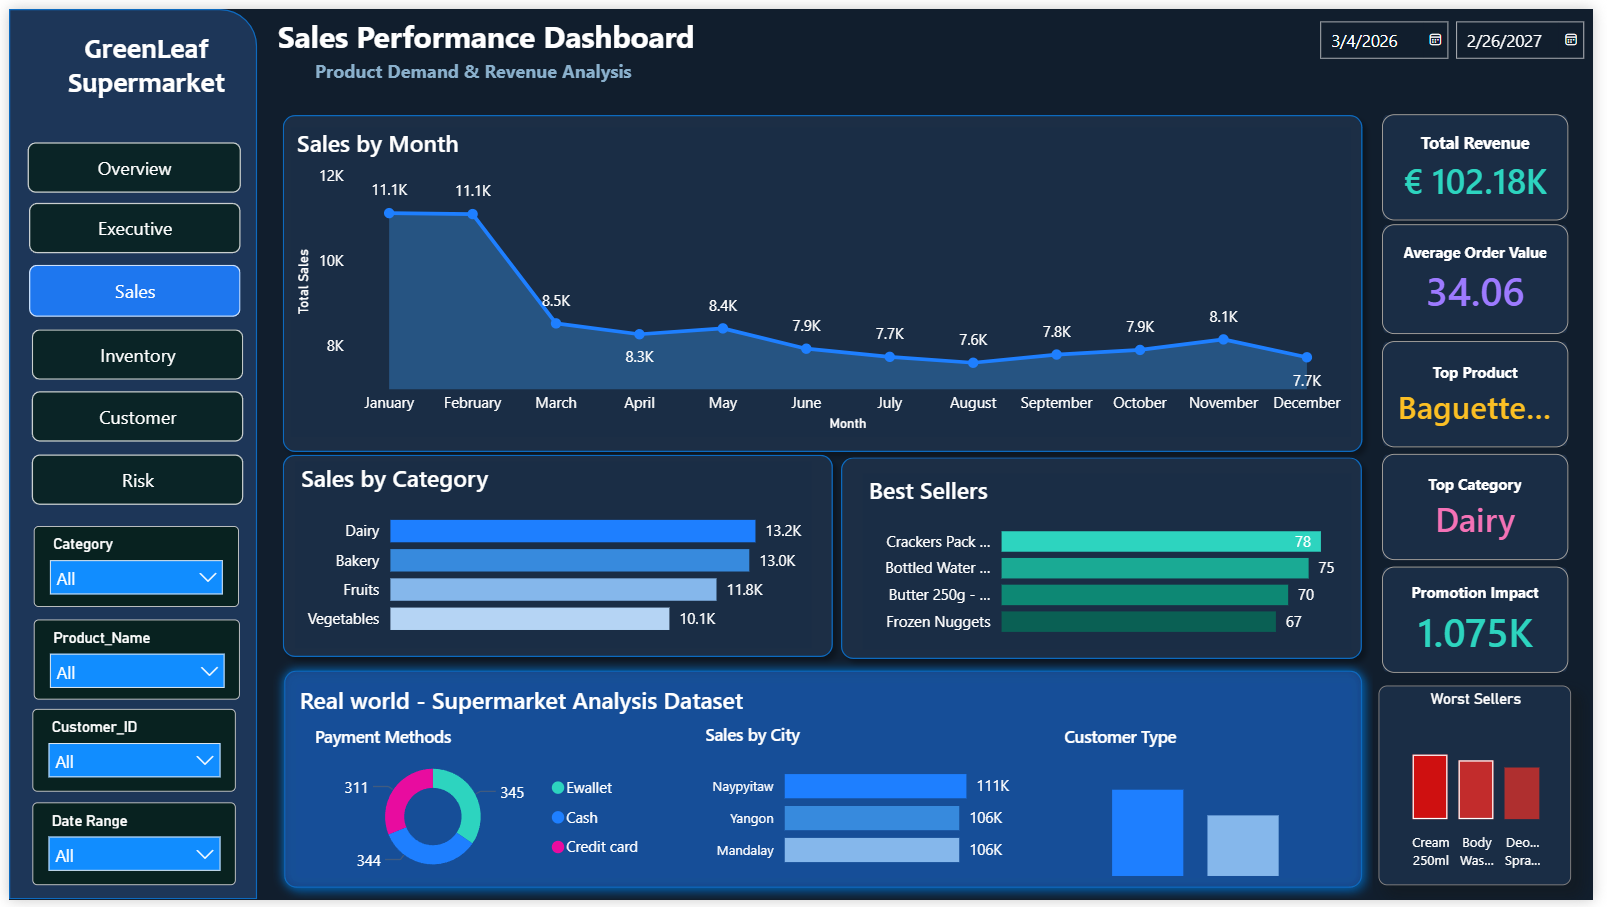

This screenshot's page, from the dashboard's own definition file:
{"tool":"powerbi","page":{"name":"Sales","canvas":[1280,720],"ordinal":2},"visuals":[{"type":"shape","box":[0,0,200.5,719.4],"z":0},{"type":"group","id":"g1","title":"Group 4","box":[9.8,18.2,193.5,689.9],"z":1000},{"type":"actionButton","box":[9.8,107.7,182.3,40.7],"z":1000,"group":"g1"},{"type":"slicer","fields":{"Values":["Inventory_dataset.Expiry_Date"]},"box":[1046.4,0,233.6,48.9],"z":2000},{"type":"cardVisual","fields":{"Data":["Sales_dataset.Total Revenue"]},"box":[1102.2,77.1,165.5,101],"z":2000,"group":"g3"},{"type":"actionButton","box":[11.2,156.8,180.9,40.7],"z":2000,"group":"g1"},{"type":"group","id":"g2","title":"Group 1","box":[212.7,0,399.3,64.5],"z":3000},{"type":"actionButton","box":[11.2,207.3,180.9,42.1],"z":3000,"group":"g1"},{"type":"shape","box":[212.1,76.4,890.4,290.3],"z":4000,"group":"g4"},{"type":"actionButton","box":[12.6,259.1,180.9,40.7],"z":4000,"group":"g1"},{"type":"shape","box":[213.1,525.9,889,193.5],"z":4000},{"type":"lineChart","title":"Sales by Month","fields":{"Category":["Sales_dataset.Date.Variation.Date Hierarchy.Month","Sales_dataset.Date.Variation.Date Hierarchy.Day"],"Y":["Customers_dataset.Total Sales"]},"box":[227.1,95.8,856.9,250],"z":5000,"group":"g4"},{"type":"actionButton","box":[12.6,309.6,180.9,40.7],"z":5000,"group":"g1"},{"type":"textbox","box":[230,539.9,490.8,39.3],"z":5000},{"type":"shape","box":[212,350.7,462.5,181.4],"z":6000,"group":"g5"},{"type":"actionButton","box":[12.6,360.1,180.9,40.7],"z":6000,"group":"g1"},{"type":"donutChart","title":"Payment Methods","fields":{"Category":["SuperMarket Analysis.Payment"],"Y":["CountNonNull(SuperMarket Analysis.Invoice ID)"]},"box":[242.6,579.1,280.5,129],"z":6000},{"type":"shape","box":[663.6,352.5,438.9,180.9],"z":7000,"group":"g5"},{"type":"slicer","fields":{"Values":["Products_dataset.Category"]},"box":[19.3,418.1,165.7,65.6],"z":7000,"group":"g1"},{"type":"clusteredBarChart","title":"Sales by City","fields":{"Category":["SuperMarket Analysis.City"],"Y":["Sum(SuperMarket Analysis.Sales)"]},"box":[558.1,576.3,263.6,129],"z":7000},{"type":"group","id":"g3","title":"Group 7","box":[212,76.4,1055.7,631.8],"z":8000},{"type":"clusteredBarChart","title":"Sales by Category","fields":{"Category":["Products_dataset.Category"],"Y":["Customers_dataset.Total Sales"]},"box":[231.3,365.7,417.4,151.4],"z":8000,"group":"g5"},{"type":"slicer","fields":{"Values":["Products_dataset.Product_Name"]},"box":[19.3,493.2,166.9,64.4],"z":8000,"group":"g1"},{"type":"group","id":"g4","title":"Group 6","box":[212.1,76.4,890.4,290.3],"z":8001,"group":"g6"},{"type":"group","id":"g5","title":"Group 5","box":[212,350.7,890.5,182.7],"z":8001,"group":"g7"},{"type":"group","id":"g6","title":"Group 3","box":[212,76.4,890.6,629.5],"z":9000,"group":"g3"},{"type":"clusteredBarChart","title":"Best Sellers","fields":{"Category":["Products_dataset.Product_Name"],"Y":["Sales_dataset.Total Quantity Sold"]},"box":[690.3,375.5,395,142.1],"z":9000,"group":"g5"},{"type":"slicer","fields":{"Values":["Customers_dataset.Customer_ID"]},"box":[18.1,565.9,164.5,66.8],"z":9000,"group":"g1"},{"type":"textbox","title":"GreenLeaf Supermarket","box":[17.1,18.2,186.5,64.5],"z":10000,"group":"g1"},{"type":"cardVisual","fields":{"Data":["Customers_dataset.Average Order Value"]},"box":[1102.2,166.9,165.5,103.8],"z":10000,"group":"g3"},{"type":"cardVisual","fields":{"Data":["Customers_dataset.Top Product"]},"box":[1102.2,260.8,165.5,101],"z":11000,"group":"g3"},{"type":"slicer","fields":{"Values":["Sales_dataset.Date"]},"box":[18.1,641,164.5,66.8],"z":11000,"group":"g1"},{"type":"textbox","box":[212.7,0,399.3,49.4],"z":12000,"group":"g2"},{"type":"cardVisual","fields":{"Data":["Customers_dataset.Top Category"]},"box":[1102.2,352,165.5,101],"z":12000,"group":"g3"},{"type":"clusteredColumnChart","title":"Customer Type","fields":{"Category":["SuperMarket Analysis.Customer type"],"Y":["Sum(SuperMarket Analysis.Sales)"]},"box":[847.3,578.3,225.8,127.6],"z":12002,"group":"g7"},{"type":"group","id":"g7","title":"Group 2","box":[212,350.7,890.5,355.2],"z":12003,"group":"g6"},{"type":"textbox","box":[242.9,34.3,279.9,30.2],"z":13000,"group":"g2"},{"type":"cardVisual","fields":{"Data":["Customers_dataset.Promotion Impact"]},"box":[1102.2,443.1,165.5,101],"z":13000,"group":"g3"},{"type":"clusteredColumnChart","title":"Worst Sellers","fields":{"Category":["Products_dataset.Product_Name"],"Y":["Customers_dataset.Total Sales"]},"box":[1106.4,546.9,155.7,161.3],"z":14000,"group":"g3"}]}

Visuals, with their boxes in screenshot pixels (x1, y1, x2, y2), scaled from the page's 1280x720 canvas onto the 1607x907 screenshot:
shape: box(0, 0, 252, 906)
"Group 4" group: box(12, 23, 255, 892)
actionButton: box(12, 136, 241, 187)
slicer - Inventory_dataset.Expiry_Date: box(1314, 0, 1606, 62)
cardVisual - Sales_dataset.Total Revenue: box(1384, 97, 1592, 224)
actionButton: box(14, 198, 241, 249)
"Group 1" group: box(267, 0, 768, 81)
actionButton: box(14, 261, 241, 314)
shape: box(266, 96, 1384, 462)
actionButton: box(16, 326, 243, 378)
shape: box(268, 662, 1384, 906)
"Sales by Month" lineChart: box(285, 121, 1361, 436)
actionButton: box(16, 390, 243, 441)
textbox: box(289, 680, 905, 730)
shape: box(266, 442, 847, 670)
actionButton: box(16, 454, 243, 505)
"Payment Methods" donutChart: box(305, 730, 657, 892)
shape: box(833, 444, 1384, 672)
slicer - Products_dataset.Category: box(24, 527, 232, 609)
"Sales by City" clusteredBarChart: box(701, 726, 1032, 888)
"Group 7" group: box(266, 96, 1592, 892)
"Sales by Category" clusteredBarChart: box(290, 461, 814, 651)
slicer - Products_dataset.Product_Name: box(24, 621, 234, 702)
"Group 6" group: box(266, 96, 1384, 462)
"Group 5" group: box(266, 442, 1384, 672)
"Group 3" group: box(266, 96, 1384, 889)
"Best Sellers" clusteredBarChart: box(867, 473, 1363, 652)
slicer - Customers_dataset.Customer_ID: box(23, 713, 229, 797)
"GreenLeaf Supermarket" textbox: box(21, 23, 256, 104)
cardVisual - Customers_dataset.Average Order Value: box(1384, 210, 1592, 341)
cardVisual - Customers_dataset.Top Product: box(1384, 329, 1592, 456)
slicer - Sales_dataset.Date: box(23, 807, 229, 892)
textbox: box(267, 0, 768, 62)
cardVisual - Customers_dataset.Top Category: box(1384, 443, 1592, 571)
"Customer Type" clusteredColumnChart: box(1064, 728, 1347, 889)
"Group 2" group: box(266, 442, 1384, 889)
textbox: box(305, 43, 656, 81)
cardVisual - Customers_dataset.Promotion Impact: box(1384, 558, 1592, 685)
"Worst Sellers" clusteredColumnChart: box(1389, 689, 1585, 892)
